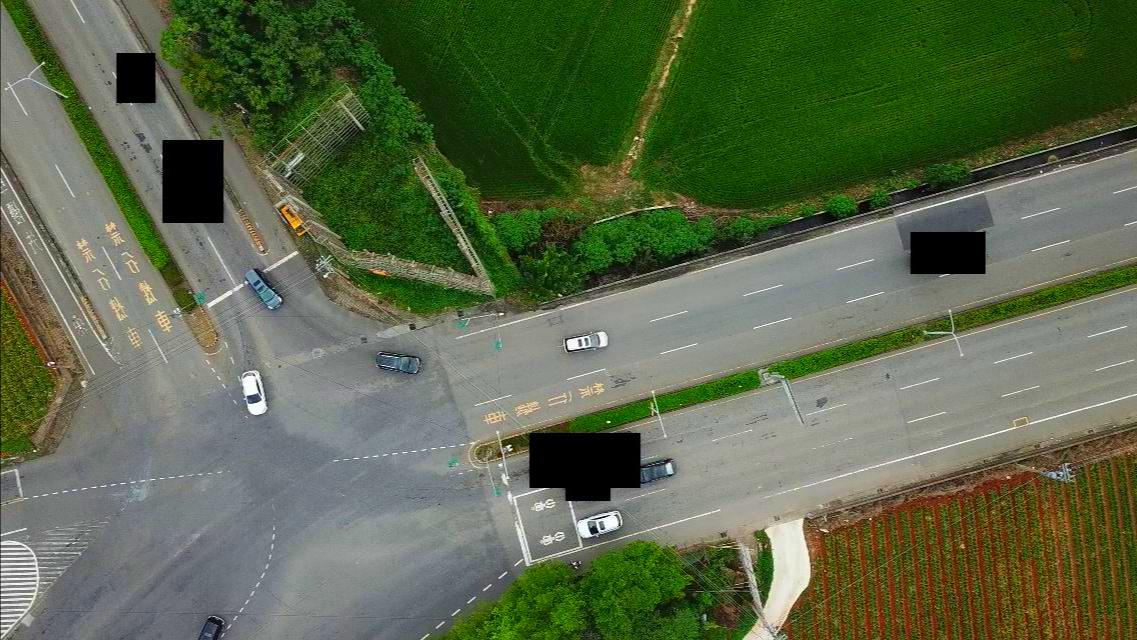vehicle: (242, 267, 283, 310), (240, 369, 271, 416), (630, 457, 676, 485), (577, 510, 621, 538), (561, 330, 609, 354), (374, 351, 422, 374), (280, 201, 308, 236), (199, 612, 228, 639)
